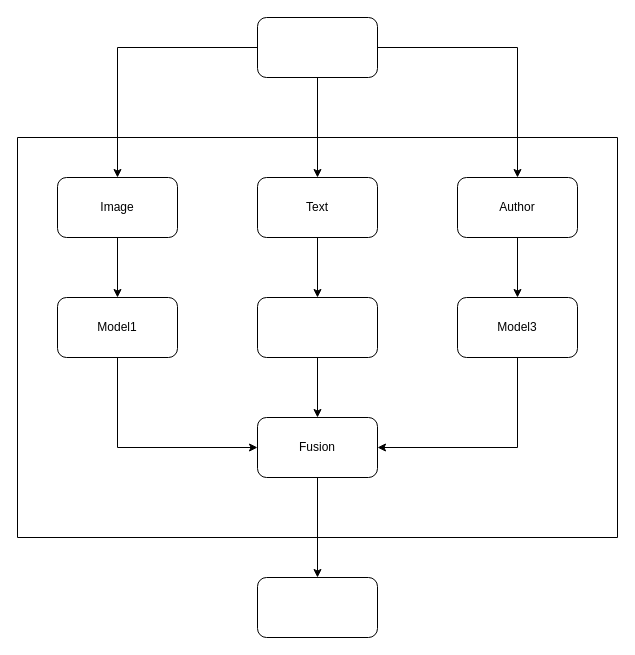
Image size: 635x655. Some labels were removed from this diagram. Each missing label, with the centre of its shape:
Harmful probability: the point at 317,607
Model2: the point at 317,327
Post: the point at 317,47
